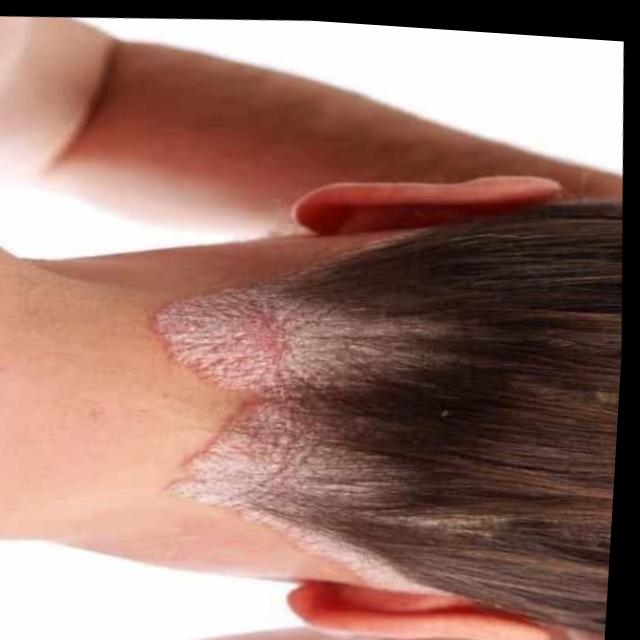Eczema: (129, 247, 447, 616)
